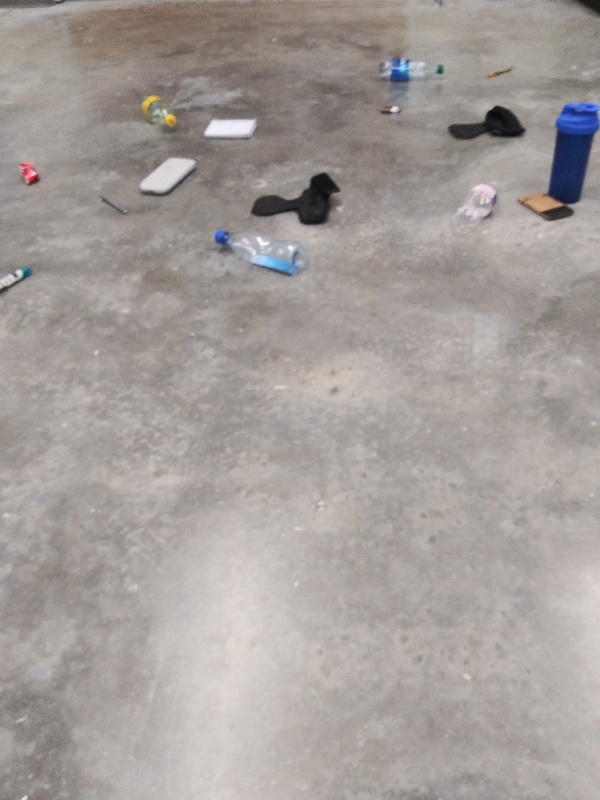bottle: (211, 226, 307, 278), (446, 177, 501, 239), (372, 54, 449, 85), (134, 87, 180, 130)
